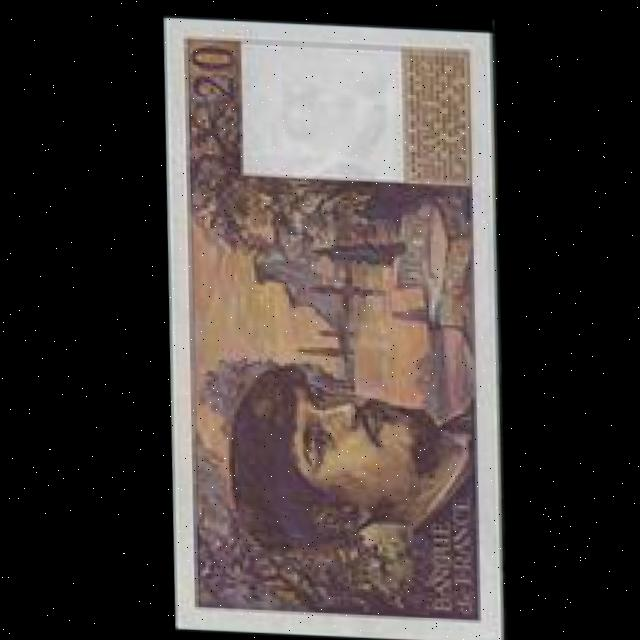banknote: (149, 13, 511, 640), (184, 37, 241, 102)
